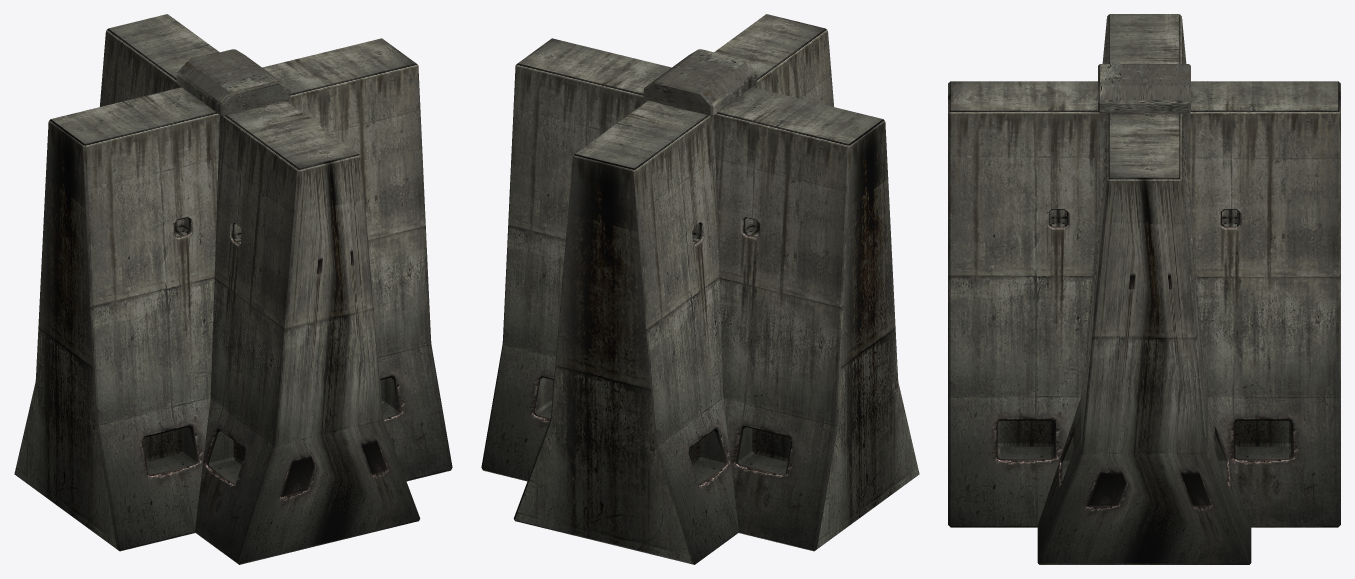
The model's file is cross.fbx.
3 views of the same model, side by side, from view 1: azimuth 30°, elevation 25°; view 2: azimuth 150°, elevation 25°; view 3: azimuth 270°, elevation 25° (orthographic).
Parts seen in each view (by area): view 1: Cube_cuts_2, Cube_cuts, Cube_1; view 2: Cube_cuts_2, Cube_cuts, Cube_1; view 3: Cube_cuts, Cube_cuts_2, Cube_1.
Boxes of the visible parts, left/top/right/bottom form: Cube_cuts_2: left=14, top=38, right=452, bottom=551; Cube_cuts: left=100, top=14, right=420, bottom=564; Cube_1: left=176, top=49, right=290, bottom=116; Cube_cuts_2: left=481, top=38, right=919, bottom=551; Cube_cuts: left=513, top=14, right=833, bottom=564; Cube_1: left=643, top=49, right=757, bottom=116; Cube_cuts: left=948, top=81, right=1340, bottom=527; Cube_cuts_2: left=1037, top=14, right=1251, bottom=564; Cube_1: left=1098, top=64, right=1190, bottom=113.
Size of the model in its own units: 200 by 229 by 200.
Materials: 2 (2 with a texture image).
